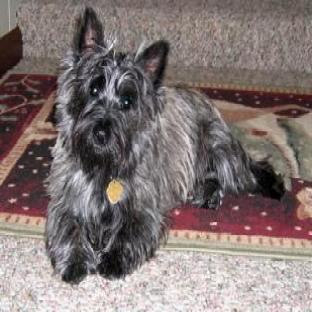Animal: (46, 8, 286, 282)
